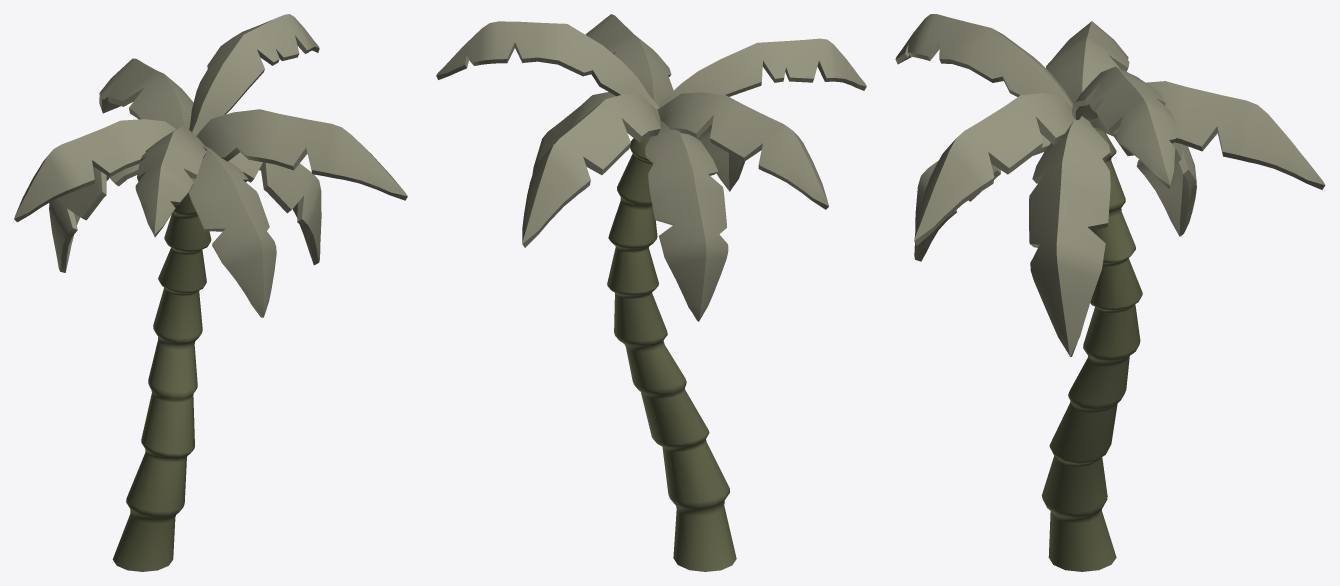
The model's file is palm-1.glb.
3 views of the same model, side by side, from view 1: azimuth 30°, elevation 25°; view 2: azimuth 150°, elevation 25°; view 3: azimuth 270°, elevation 25° (orthographic). The views are drawn at different scales.
Visible parts, largest first — view 1: Environment_PalmTree_1; view 2: Environment_PalmTree_1; view 3: Environment_PalmTree_1.
Part boxes in pixels (box(x1,y1,x2,y2)): Environment_PalmTree_1: box(14, 14, 407, 571); Environment_PalmTree_1: box(436, 14, 866, 571); Environment_PalmTree_1: box(895, 14, 1325, 571).
Size of the model in its own units: 2.61 by 3.59 by 2.52.
1 material, 1 textured.
